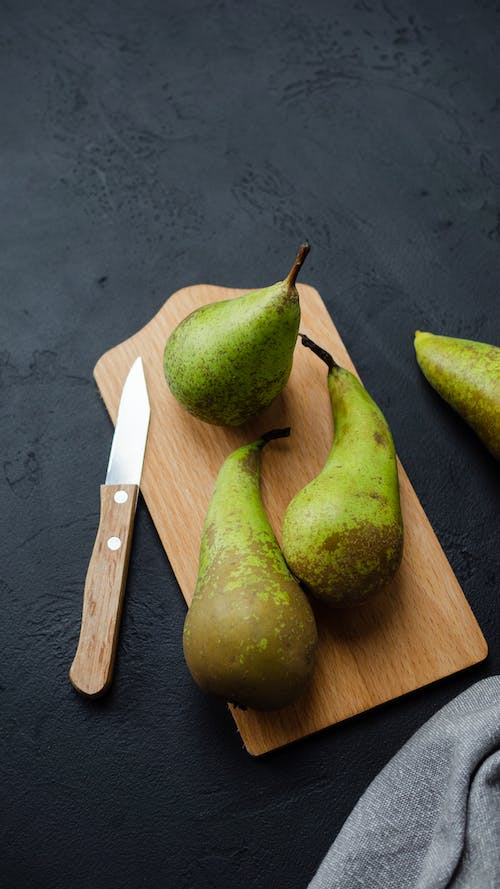knife: (66, 351, 154, 698)
